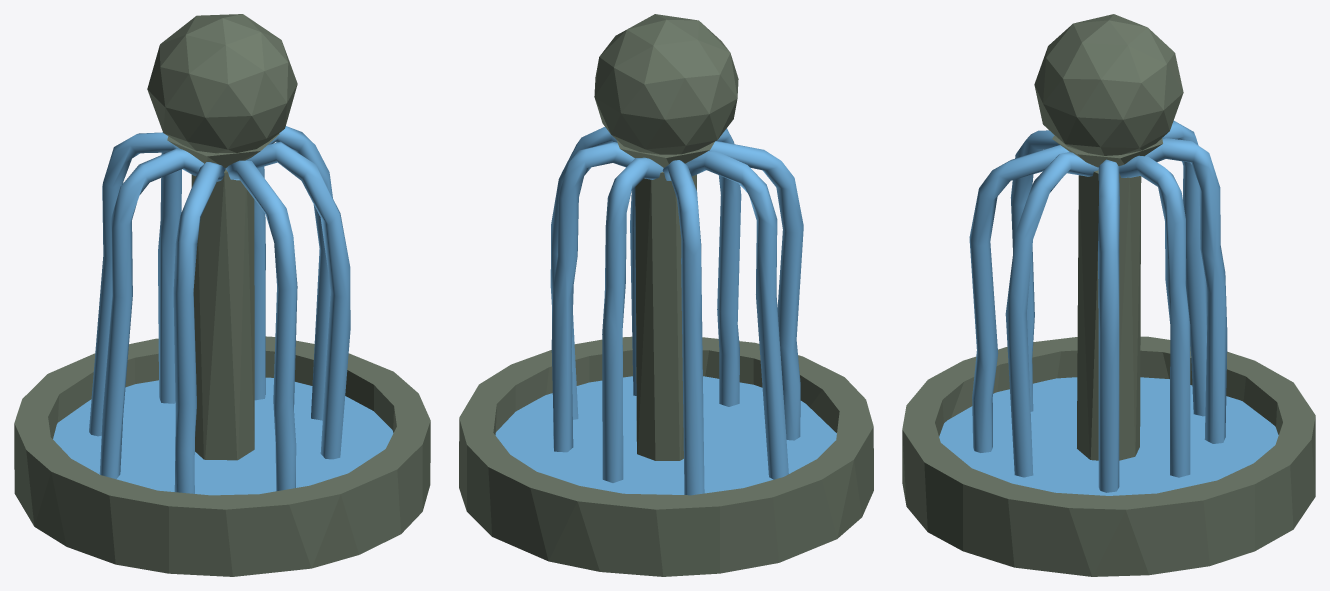
The model's file is WellModel.fbx.
3 views of the same model, side by side, from view 1: azimuth 30°, elevation 25°; view 2: azimuth 150°, elevation 25°; view 3: azimuth 270°, elevation 25° (orthographic).
Parts seen in each view (by area): view 1: Well, Water; view 2: Well, Water; view 3: Well, Water.
Boxes of the visible parts, x1,y1,x2,y2 form: Well: [14, 14, 430, 576]; Water: [53, 126, 393, 495]; Well: [459, 14, 873, 576]; Water: [495, 127, 836, 495]; Well: [902, 14, 1315, 576]; Water: [939, 120, 1278, 495].
Bounding box in the file's own units: 200 × 251 × 200.
